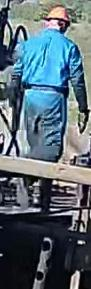gloves: (76, 104, 89, 135)
helmet: (42, 5, 72, 22)
vest: (15, 31, 83, 100)
